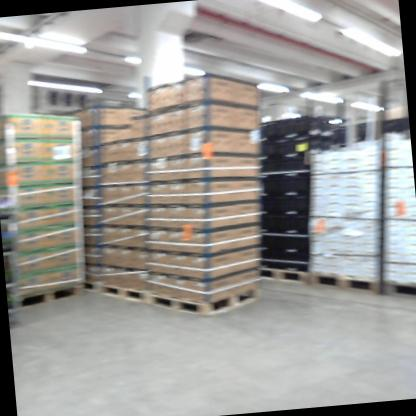pallet: (146, 273, 266, 320), (304, 258, 386, 299), (17, 282, 88, 311), (256, 256, 314, 289), (98, 276, 151, 305), (377, 271, 416, 303), (86, 276, 102, 292)
